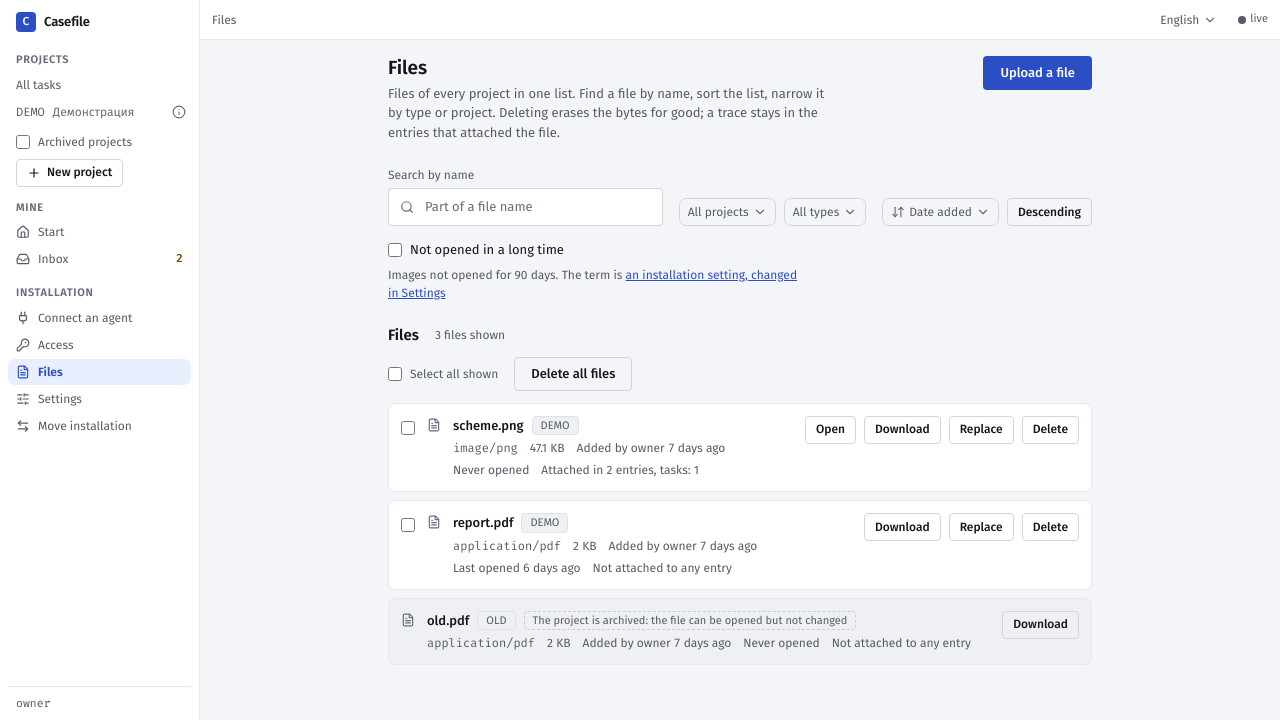
Test: экран «Файлы» › удаление выбранных: окно называет число и ссылки, уходят номера
Click the checkbox named "Select scheme.png": x=408, y=428 [401,420,415,434]
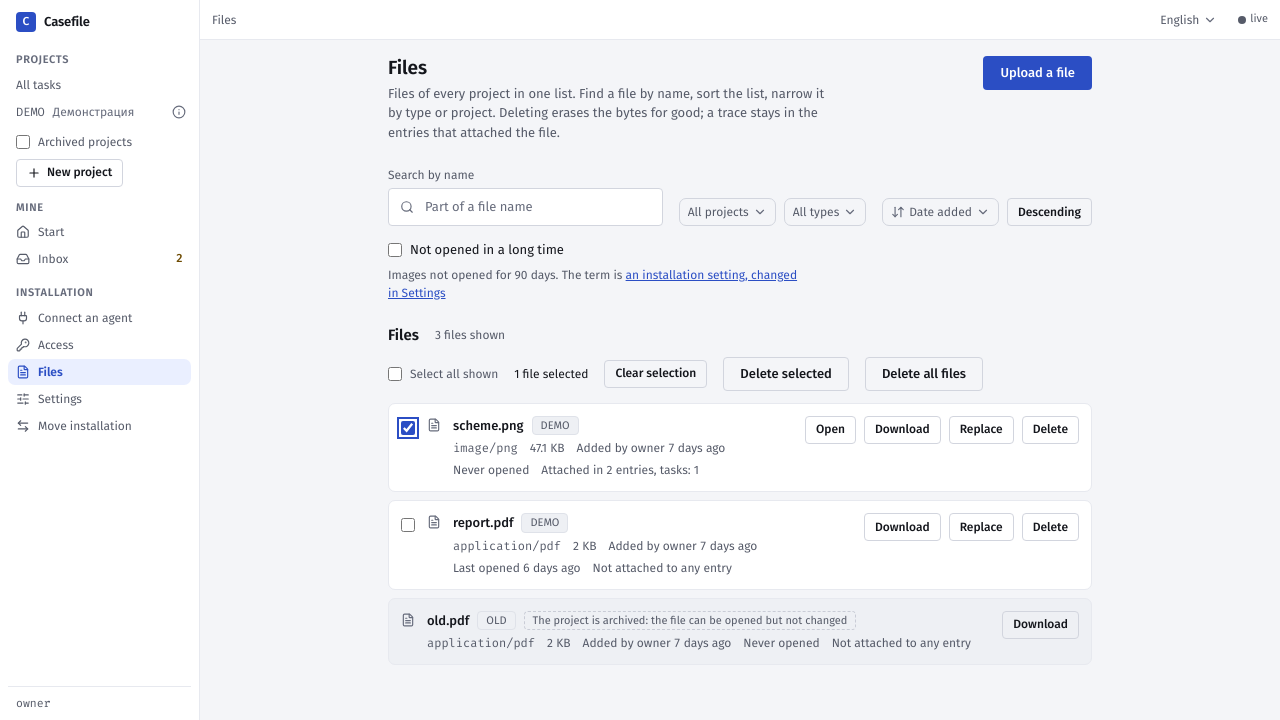
Click the button "Delete selected": x=786, y=374 [723,356,849,390]
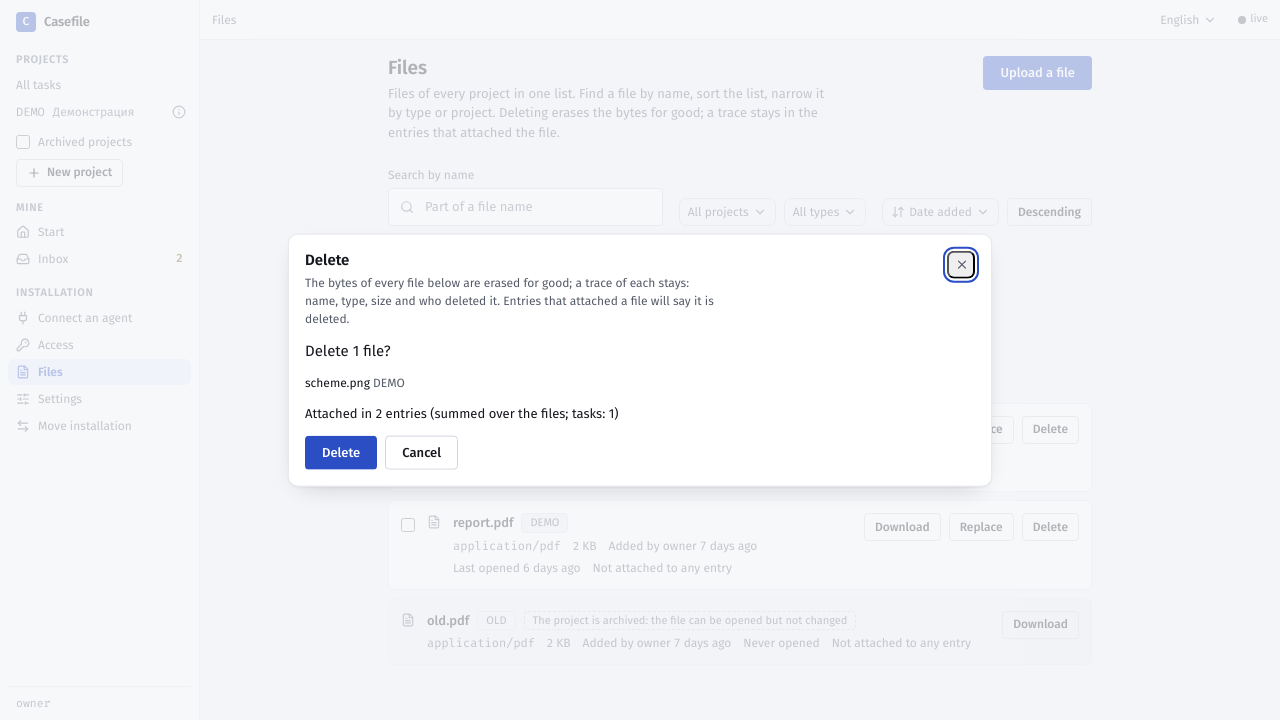
Click the button "Delete": x=341, y=452 [305,435,377,469]
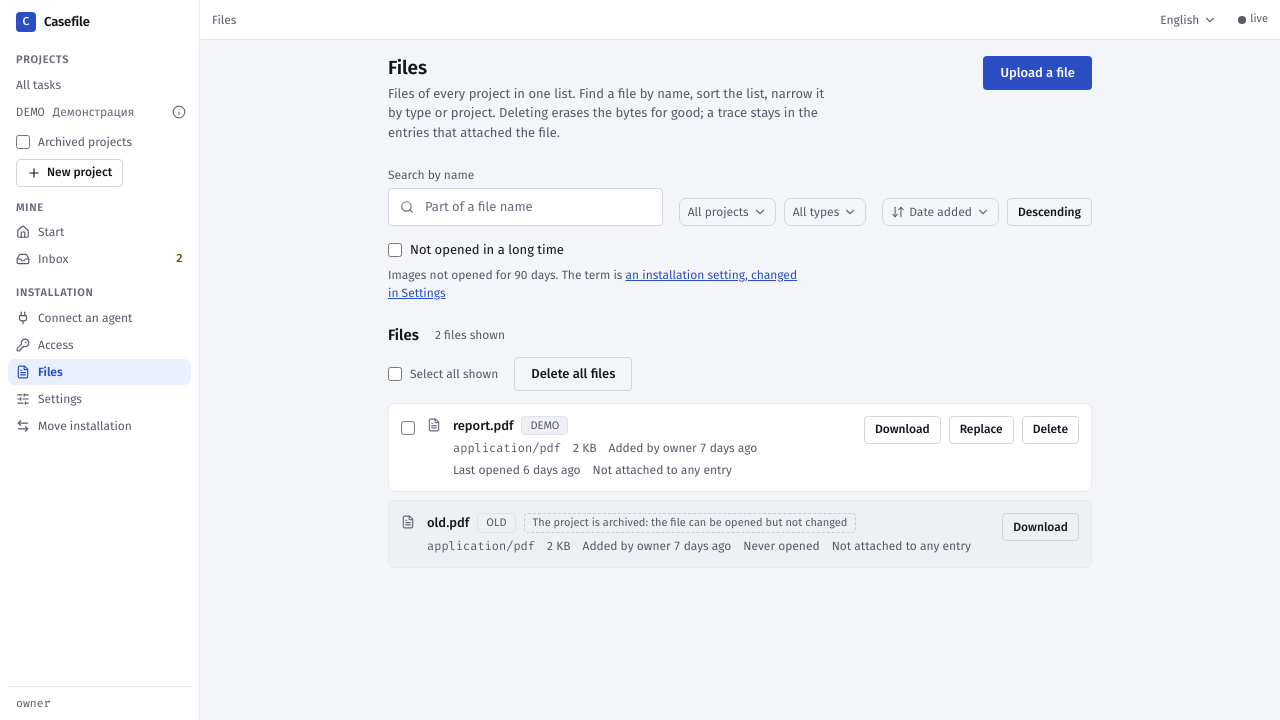
Now the text "scheme.png" is gone
